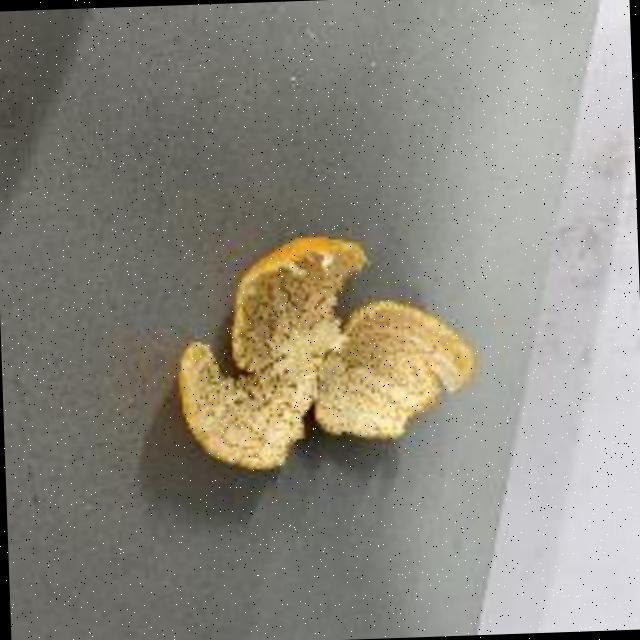orange-peel: (168, 225, 479, 475)
